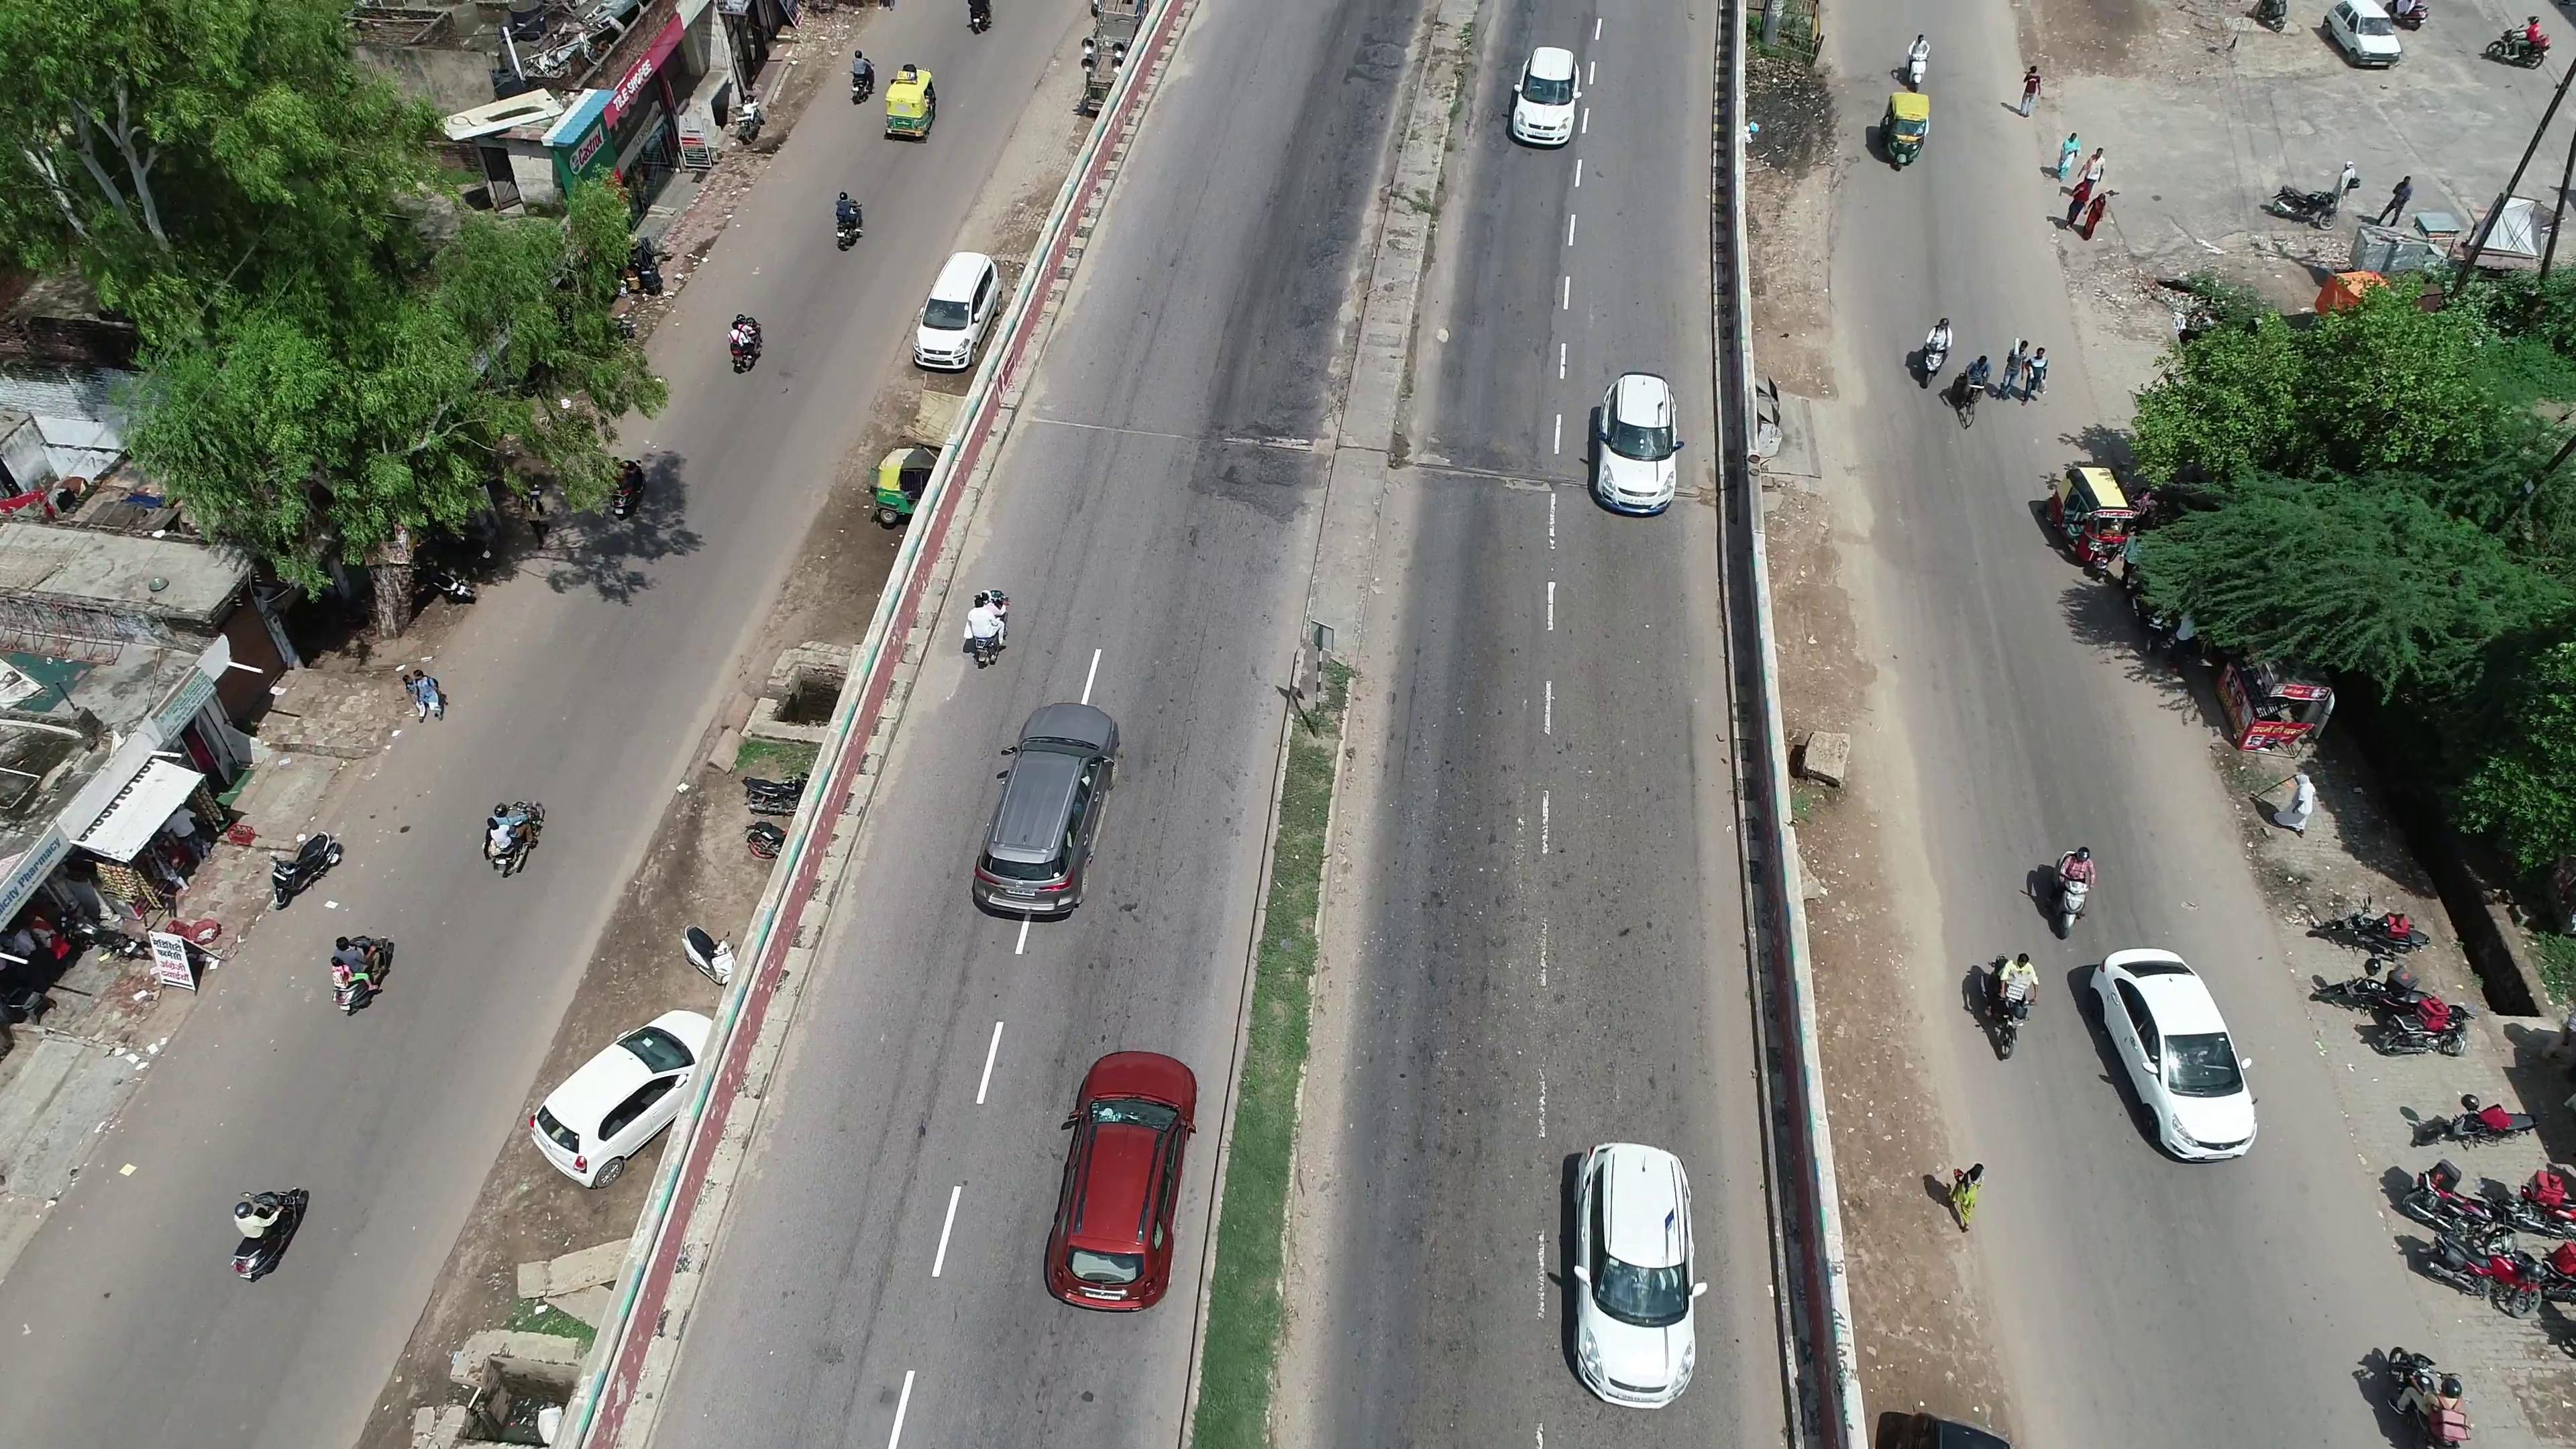Longitudinal_cracks: (1154, 607, 1219, 819)
